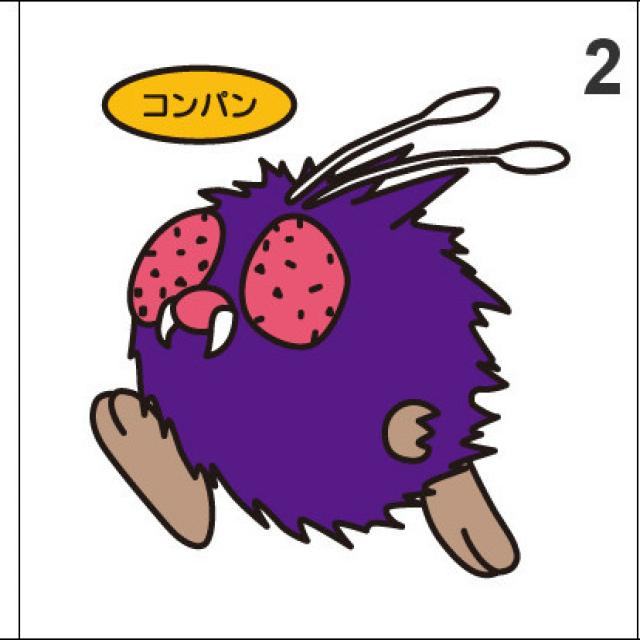Venonat: (130, 158, 512, 534)
